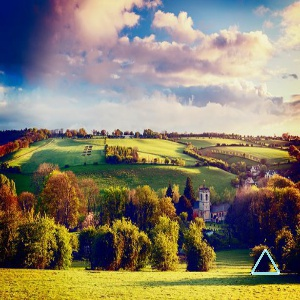triangle: (249, 247, 281, 278)
